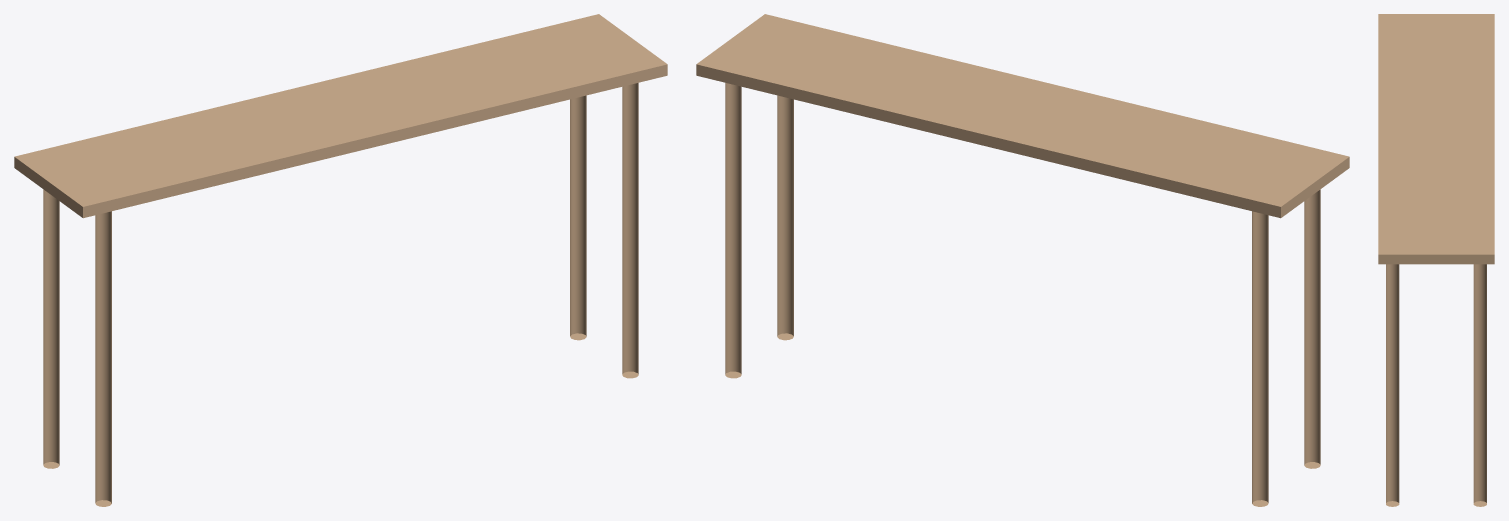
The model's file is console_table_08.glb.
The picture shows the model from 3 angles, left to right: view 1: azimuth 30°, elevation 25°; view 2: azimuth 150°, elevation 25°; view 3: azimuth 270°, elevation 25°; orthographic projection. The views are drawn at different scales.
Size of the model in its own units: 1.62 by 0.82 by 0.33.
